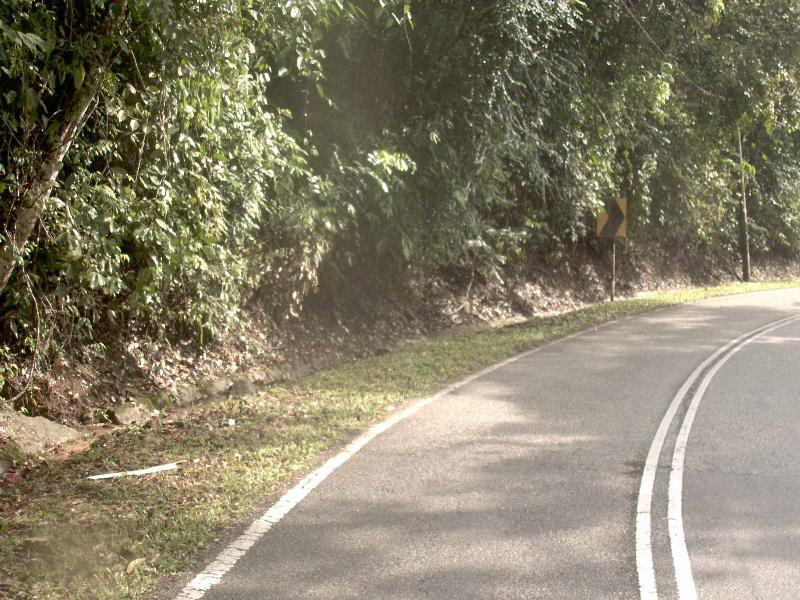traffic_sign: (586, 187, 637, 252)
